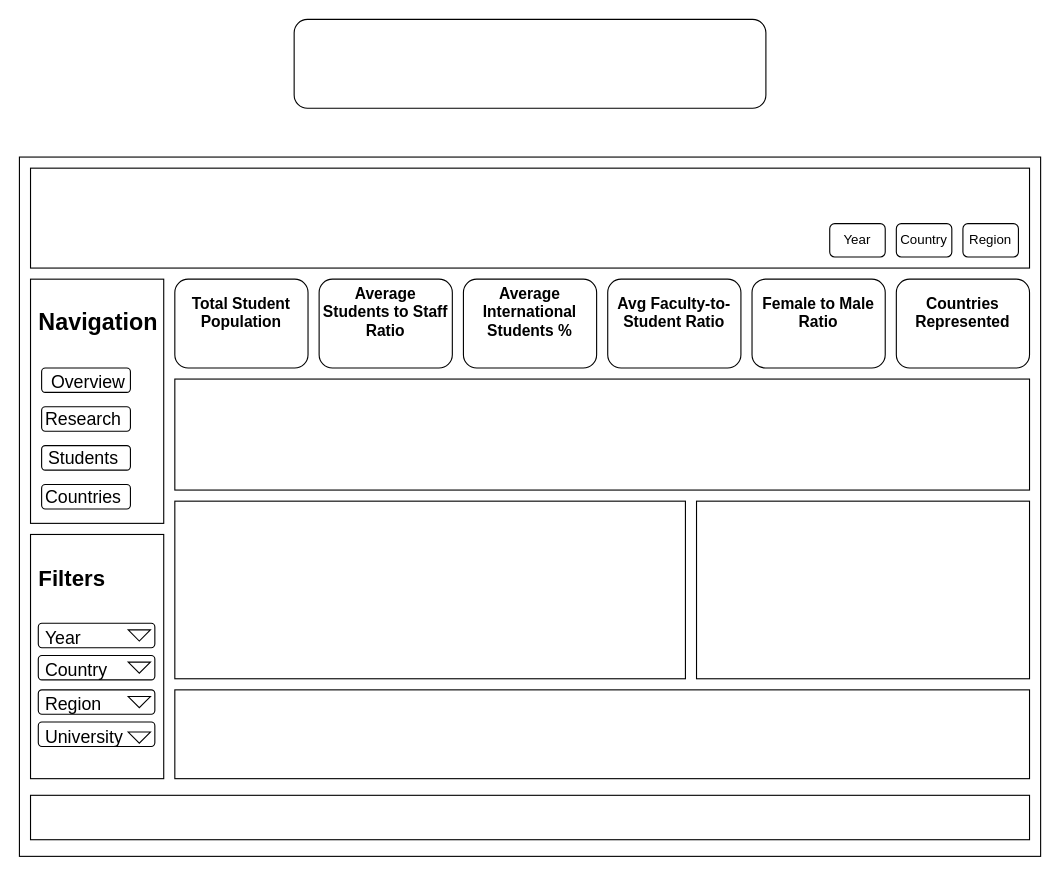
Some shapes in this 1060 by 876 pixel diagram are drawn without their labels. The shapes that lost their labels are listed below. From the top down, each one's box as (x1, y1, x2, y2) in pixels, then its label:
(293, 18, 766, 108): Student Analytics Dashboard
(29, 167, 1030, 268): EduVision Dashboard Higher Education Performance Dashboard
(174, 378, 1030, 490): Student Population by University (Horizontal Bar)
(174, 500, 685, 679): International Students % by Country (Filled Map)
(695, 500, 1030, 679): Students to Staff Ratio Trend (Line Chart)
(174, 689, 1030, 779): Student Statistics Table
(29, 794, 1030, 840): Data Sources: QS • THE • ARWU
